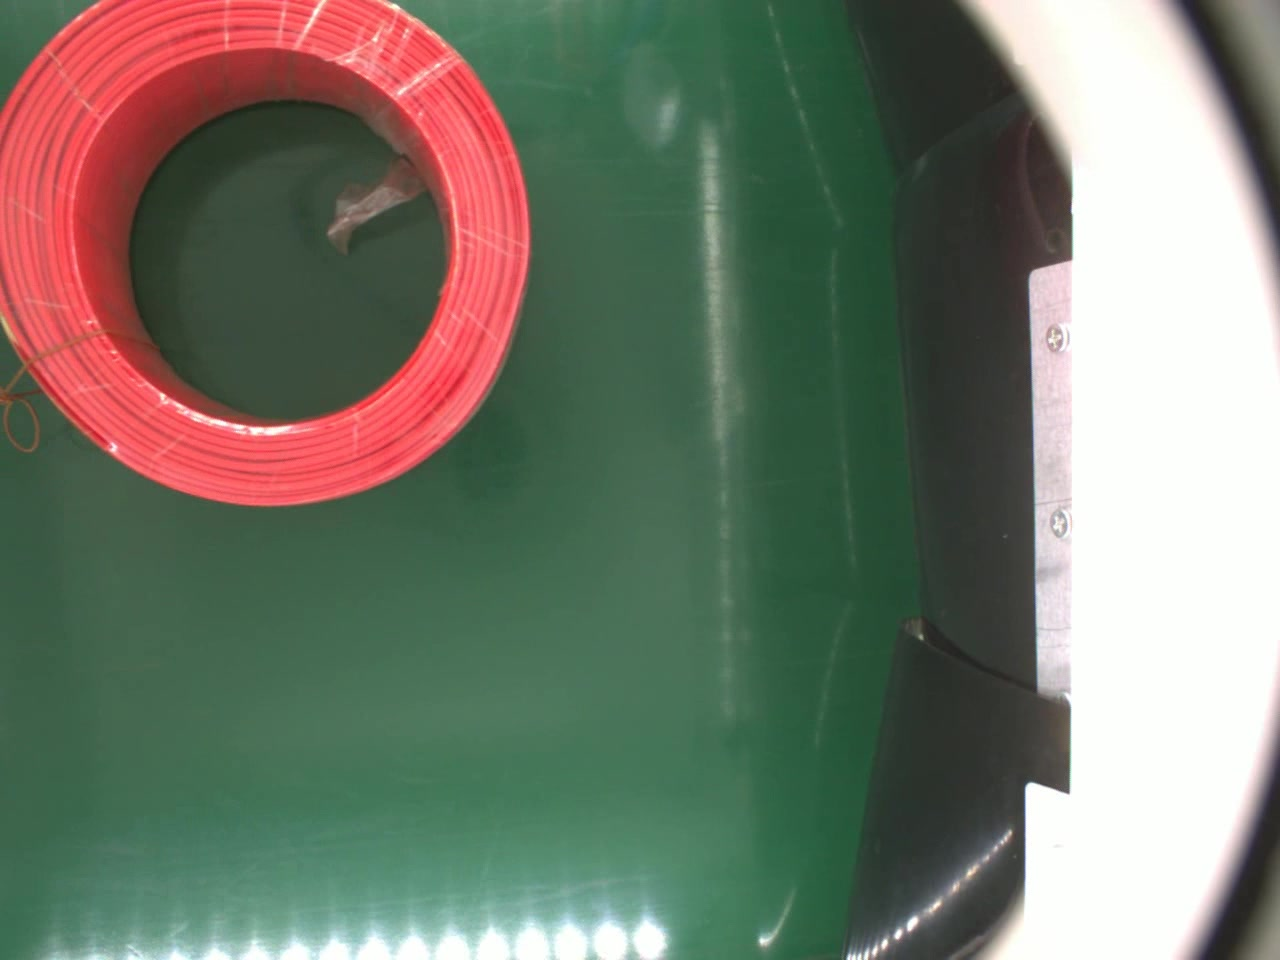red: (0, 0, 537, 510)
